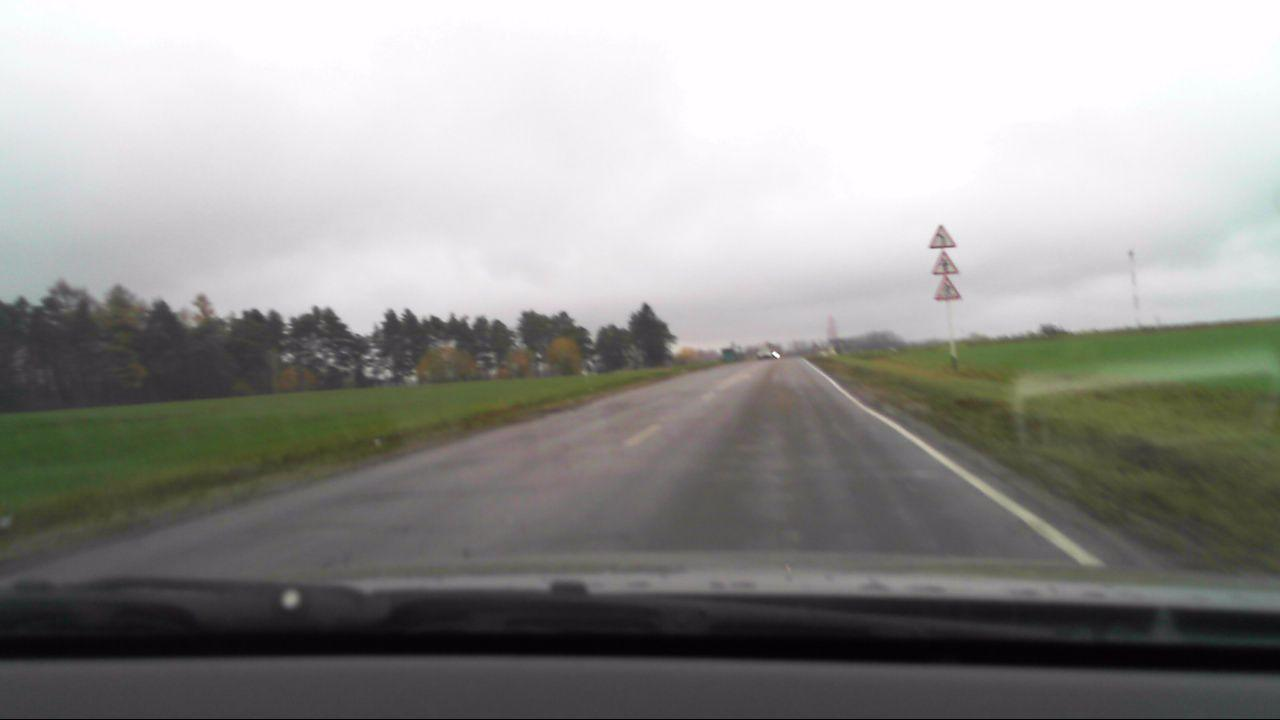1_11_2: (929, 224, 956, 250)
1_22: (933, 276, 962, 302)
2_3_1: (931, 251, 958, 276)
